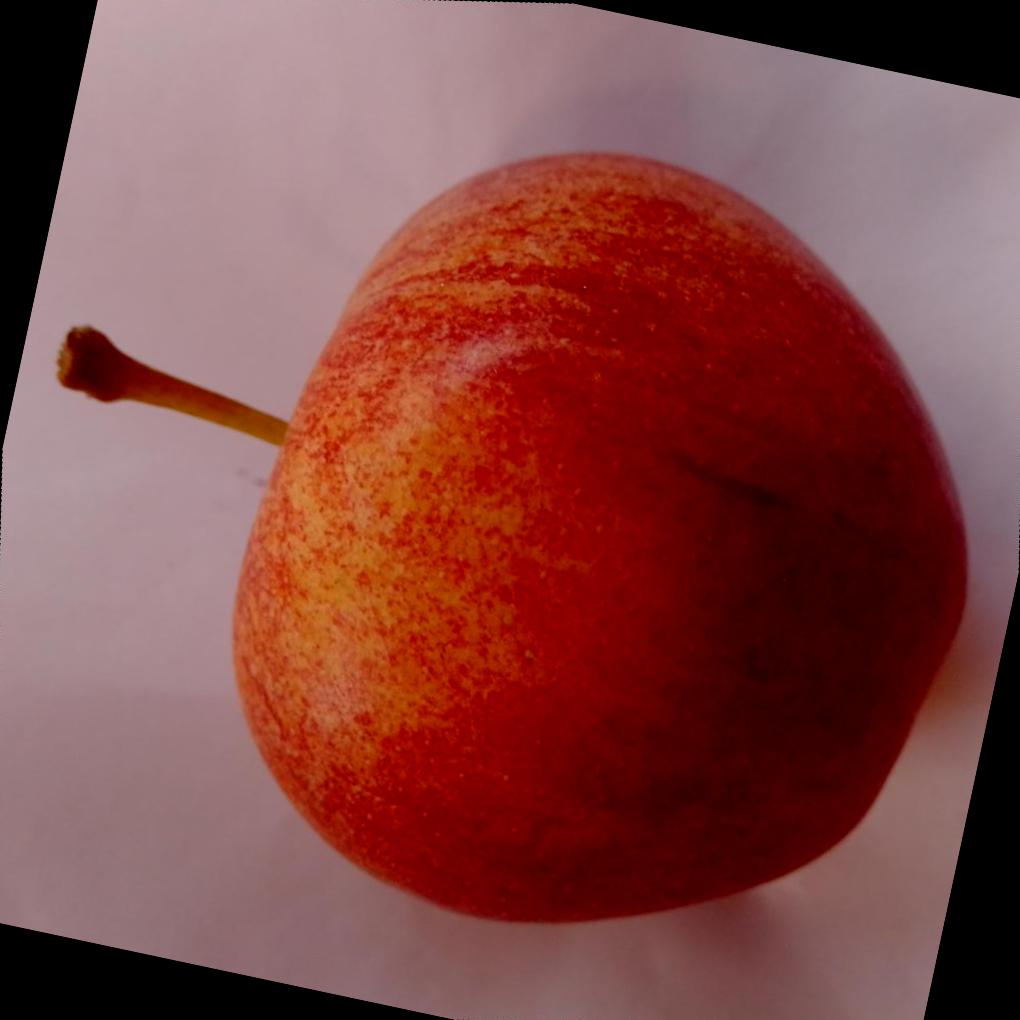FreshGuava: (231, 149, 972, 925)
